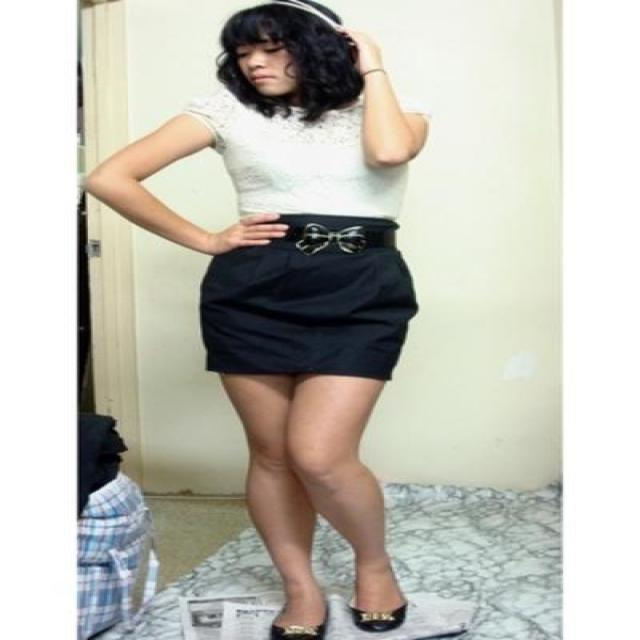shirt: (184, 81, 416, 228)
shoe: (269, 605, 405, 639)
skirt: (200, 213, 416, 384)
